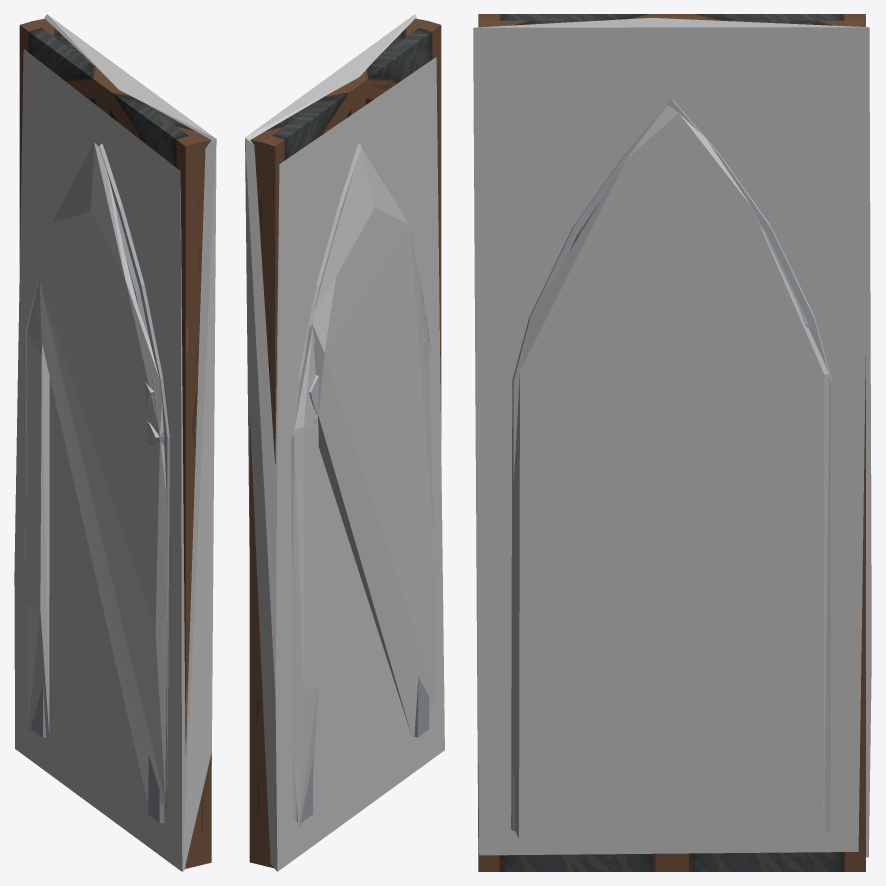
File: SM_Bld_Window_Tall_02.fbx
3 renders of one model, left to right at view 1: azimuth 30°, elevation 25°; view 2: azimuth 150°, elevation 25°; view 3: azimuth 270°, elevation 25°, orthographic. The views are drawn at different scales.
Parts seen in each view (by area): view 1: SM_Bld_Window_Tall_02_ConvexHulls, SM_Bld_Window_Tall_02; view 2: SM_Bld_Window_Tall_02_ConvexHulls, SM_Bld_Window_Tall_02; view 3: SM_Bld_Window_Tall_02_ConvexHulls, SM_Bld_Window_Tall_02.
Part boxes in pixels (bbox=[...]): SM_Bld_Window_Tall_02_ConvexHulls: bbox=[14, 14, 216, 871]; SM_Bld_Window_Tall_02: bbox=[19, 18, 211, 868]; SM_Bld_Window_Tall_02_ConvexHulls: bbox=[245, 14, 444, 871]; SM_Bld_Window_Tall_02: bbox=[249, 18, 441, 868]; SM_Bld_Window_Tall_02_ConvexHulls: bbox=[473, 18, 871, 857]; SM_Bld_Window_Tall_02: bbox=[478, 14, 865, 871].
Size of the model in its own units: 44.83 by 257 by 604.
4 materials, 3 textured.
